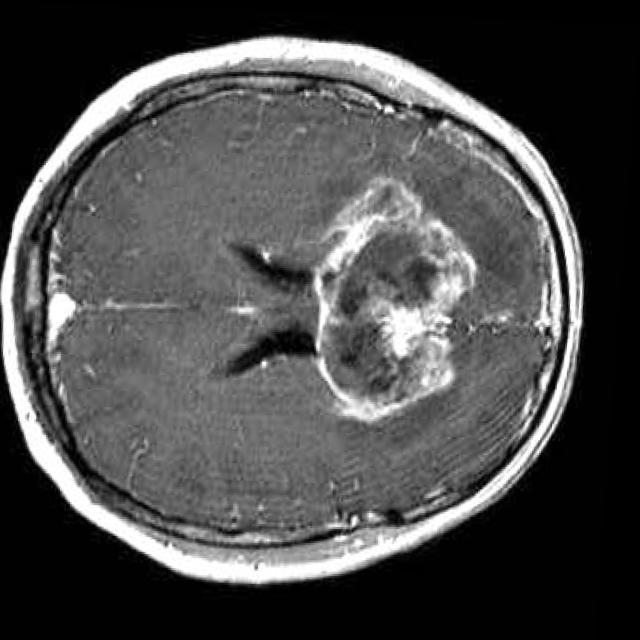Tumor: (324, 174, 478, 414)
